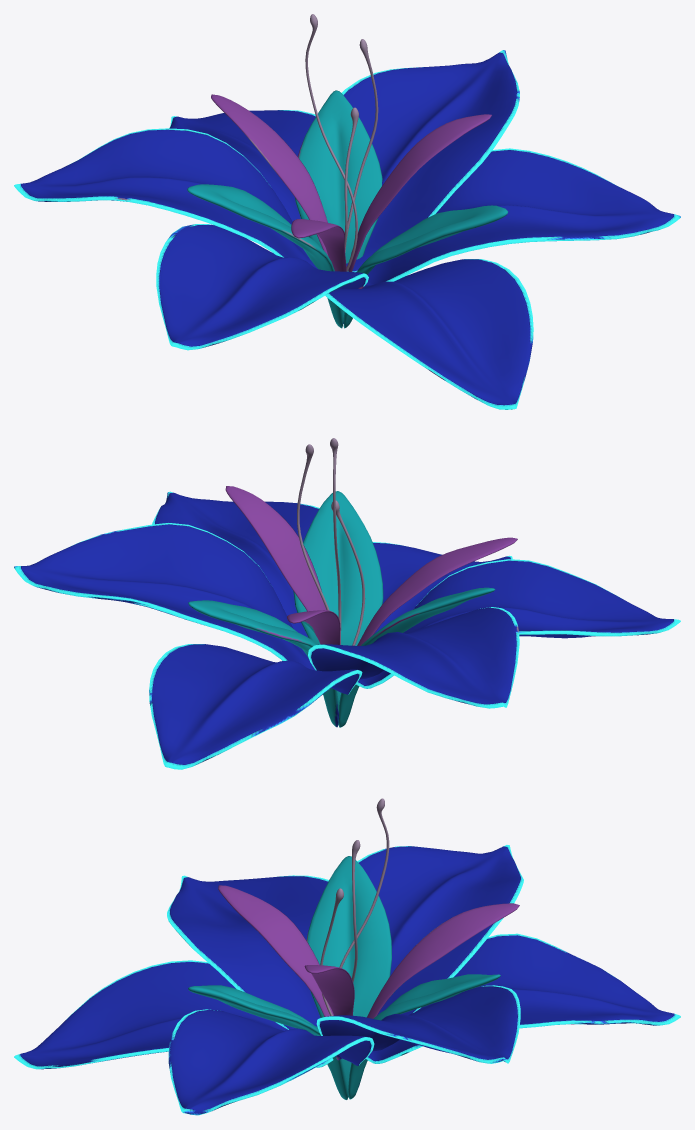
Rendered from strange_flower.glb.
The picture shows the model from 3 angles, top to bottom: view 1: azimuth 30°, elevation 25°; view 2: azimuth 150°, elevation 25°; view 3: azimuth 270°, elevation 25°; orthographic projection. The views are drawn at different scales.
Visible parts, largest first — view 1: Plane.005, Plane.003, Plane.004, Plane.006, Plane.007, Plane.001, Plane, Plane.002, Plane.010, Plane.008, Plane.009, Vert.002 (+1 smaller); view 2: Plane.003, Plane, Plane.007, Plane.006, Plane.008, Plane.004, Plane.010, Plane.011, Plane.005, Plane.001, Plane.009, Vert.002 (+1 smaller); view 3: Plane.007, Plane.004, Plane.005, Plane.006, Plane, Plane.003, Plane.009, Plane.002, Plane.011, Plane.008, Plane.001, Plane.010 (+1 smaller).
Part boxes in pixels (x1=…): Plane.005: x1=325, y1=259, x2=533, y2=409; Plane.003: x1=342, y1=50, x2=519, y2=272; Plane.004: x1=356, y1=148, x2=680, y2=284; Plane.006: x1=156, y1=224, x2=368, y2=350; Plane.007: x1=14, y1=128, x2=317, y2=268; Plane.001: x1=295, y1=90, x2=382, y2=323; Plane: x1=169, y1=110, x2=315, y2=221; Plane.002: x1=211, y1=94, x2=327, y2=255; Plane.010: x1=348, y1=114, x2=491, y2=271; Plane.008: x1=343, y1=205, x2=508, y2=328; Plane.009: x1=187, y1=184, x2=343, y2=328; Vert.002: x1=305, y1=14, x2=378, y2=271; Plane.003: x1=14, y1=523, x2=314, y2=670; Plane: x1=149, y1=644, x2=362, y2=769; Plane.007: x1=308, y1=607, x2=519, y2=708; Plane.006: x1=356, y1=559, x2=680, y2=688; Plane.008: x1=293, y1=491, x2=383, y2=724; Plane.004: x1=152, y1=491, x2=319, y2=637; Plane.010: x1=225, y1=486, x2=326, y2=611; Plane.011: x1=357, y1=537, x2=517, y2=645; Plane.005: x1=372, y1=542, x2=512, y2=633; Plane.001: x1=188, y1=600, x2=338, y2=727; Plane.009: x1=338, y1=587, x2=495, y2=727; Vert.002: x1=297, y1=438, x2=365, y2=645; Plane.007: x1=357, y1=845, x2=523, y2=1014; Plane.004: x1=168, y1=1009, x2=374, y2=1115; Plane.005: x1=14, y1=960, x2=333, y2=1069; Plane.006: x1=167, y1=875, x2=328, y2=1029; Plane: x1=365, y1=933, x2=680, y2=1063; Plane.003: x1=316, y1=985, x2=520, y2=1063; Plane.009: x1=306, y1=856, x2=391, y2=1097; Plane.002: x1=367, y1=903, x2=519, y2=1018; Plane.011: x1=218, y1=885, x2=333, y2=1016; Plane.008: x1=188, y1=985, x2=348, y2=1099; Plane.001: x1=348, y1=974, x2=500, y2=1099; Plane.010: x1=304, y1=965, x2=354, y2=1015.
Size of what is drawn, in the model's own units: 6.01 by 3.41 by 7.
Materials: 5 (5 with a texture image).
